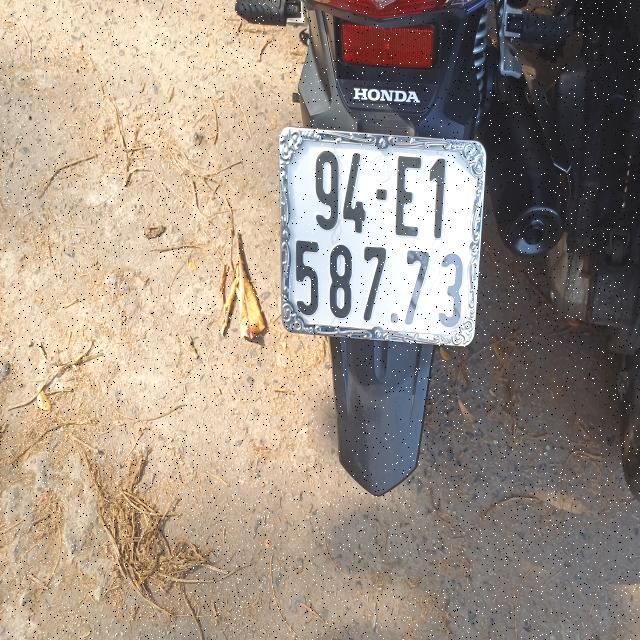1: (427, 155, 449, 240)
3: (438, 250, 463, 328)
4: (342, 149, 369, 236)
5: (292, 235, 324, 319)
7: (362, 242, 389, 324), (403, 247, 430, 326)
8: (329, 242, 354, 322)
9: (313, 148, 340, 232)
E: (395, 155, 422, 238)
